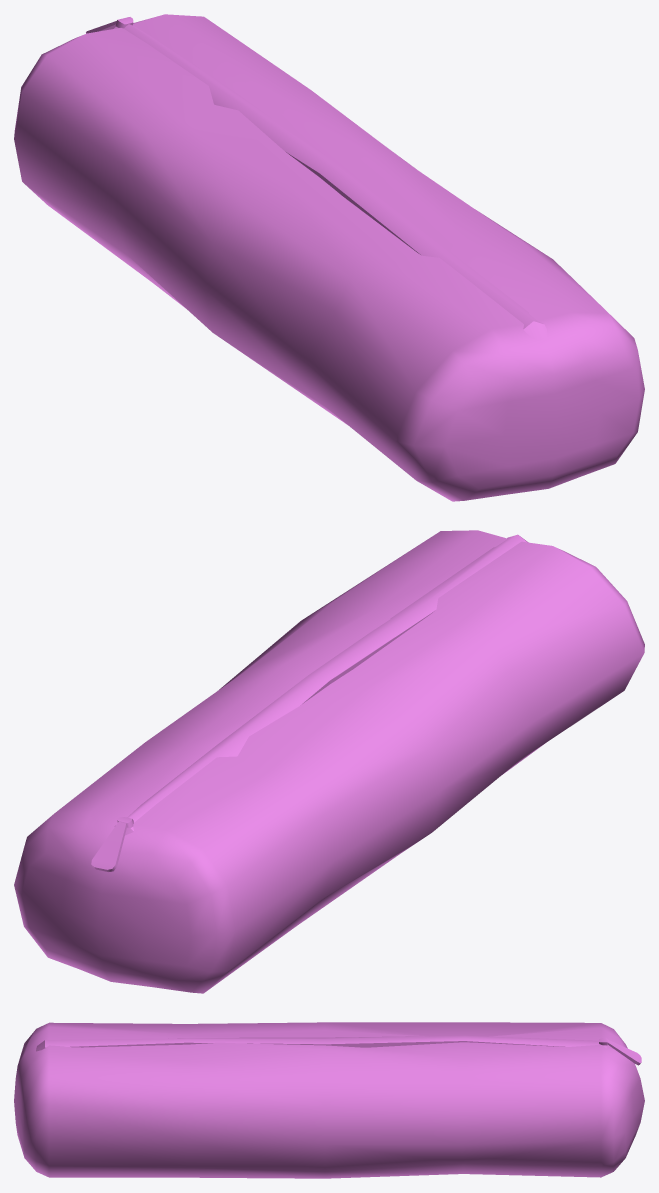
Rendered from Cartuchera 1.fbx.
3 renders of one model, top to bottom at view 1: azimuth 30°, elevation 25°; view 2: azimuth 150°, elevation 25°; view 3: azimuth 270°, elevation 25°, orthographic. The views are drawn at different scales.
Parts seen in each view (by area): view 1: Cartuchera_1; view 2: Cartuchera_1; view 3: Cartuchera_1.
Part boxes in pixels (x1=…): Cartuchera_1: x1=14, y1=14, x2=644, y2=501; Cartuchera_1: x1=14, y1=530, x2=644, y2=993; Cartuchera_1: x1=14, y1=1022, x2=644, y2=1178.
Size of the model in its own units: 0.0869 by 0.0545 by 0.2601.
